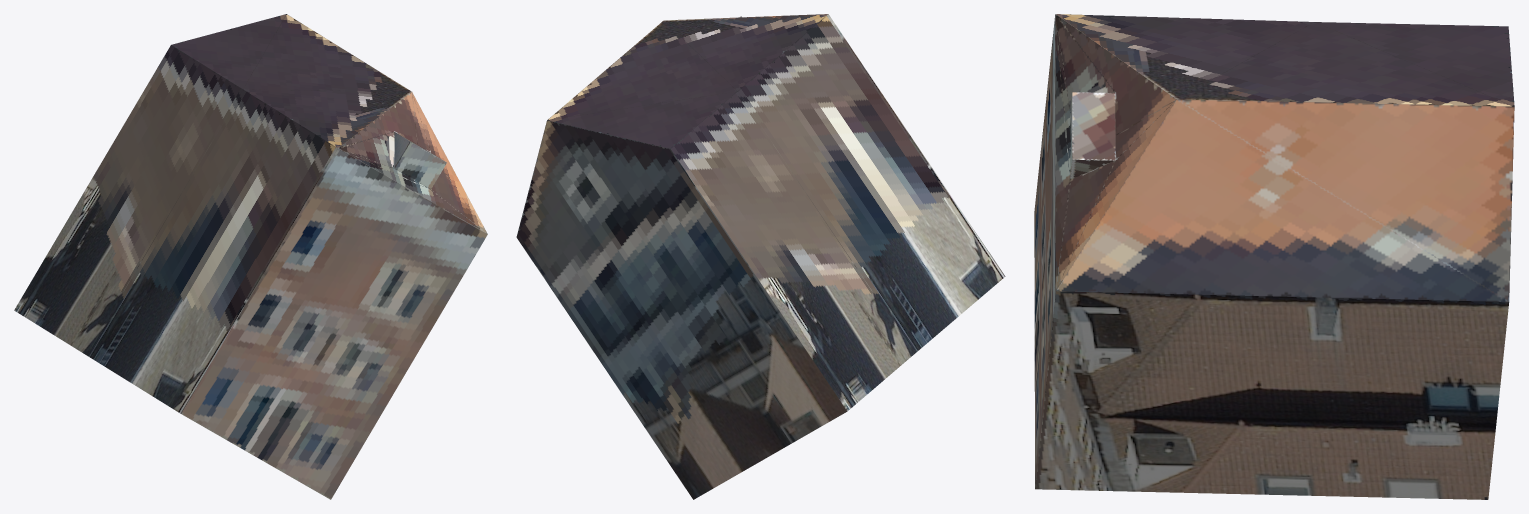
3 views of the same model, side by side, from view 1: azimuth 30°, elevation 25°; view 2: azimuth 150°, elevation 25°; view 3: azimuth 270°, elevation 25° (orthographic). The views are drawn at different scales.
Parts seen in each view (by area): view 1: BAG_0599100000675848 (×3); view 2: BAG_0599100000675848 (×3); view 3: BAG_0599100000675848 (×4).
Part boxes in pixels (x1,y1,x2,y2): BAG_0599100000675848 (×3): [14, 14, 487, 499]; BAG_0599100000675848 (×3): [516, 14, 1005, 499]; BAG_0599100000675848 (×4): [1034, 14, 1514, 499].
Bounding box in the file's own units: 13.7 × 14.43 × 12.53.
4 materials, 4 textured.
